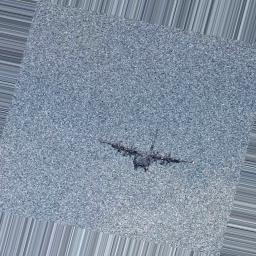Airplane: (98, 129, 195, 172)
